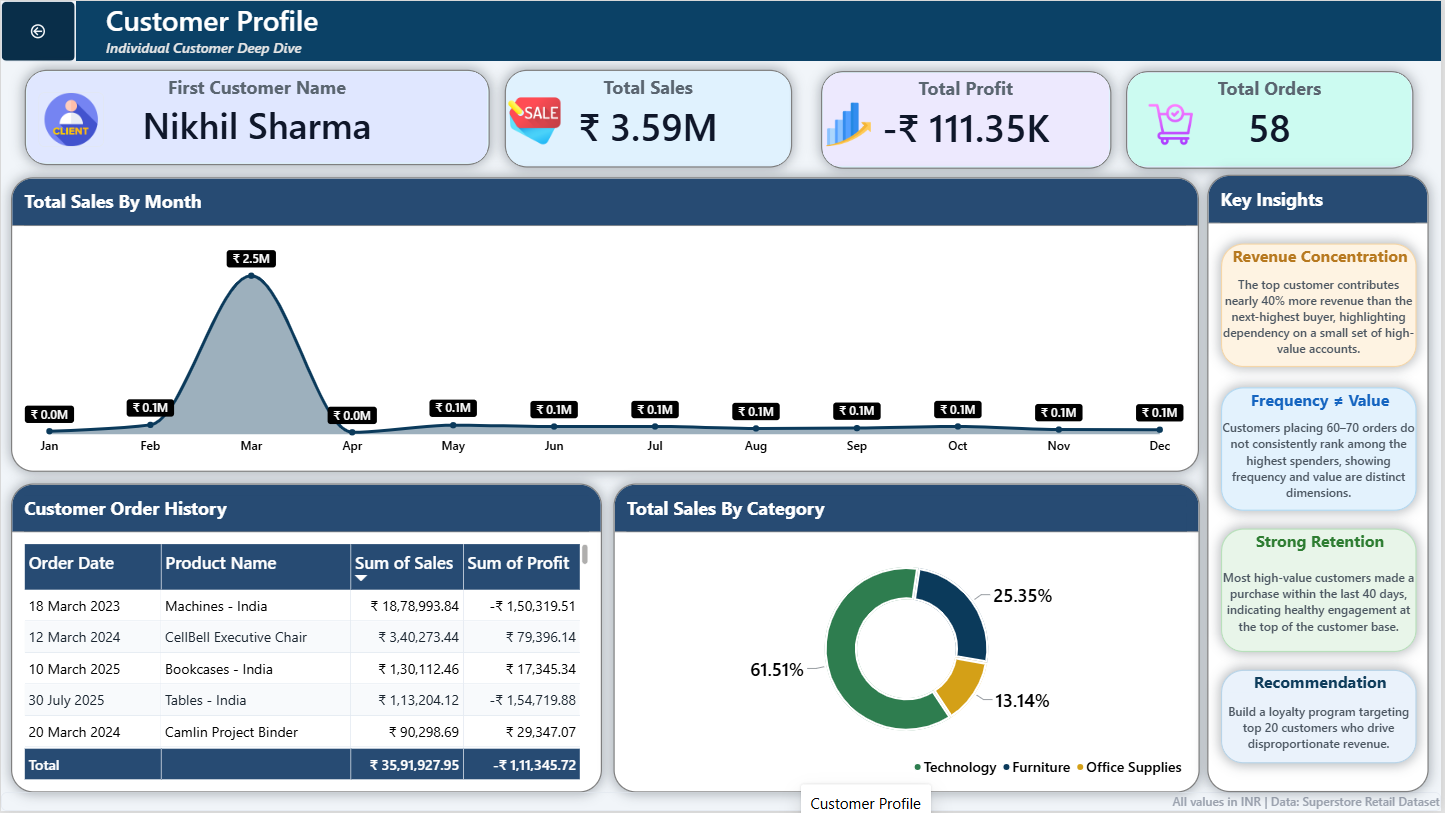

The dashboard page shown, as its layout file describes it:
{"tool":"powerbi","page":{"name":"Customer Profile","canvas":[1920,1080],"ordinal":4},"visuals":[{"type":"actionButton","box":[0,0,99.5,80.8],"z":0},{"type":"cardVisual","fields":{"Data":["Min(Orders.Customer Name)"]},"box":[31.1,91.7,620,127.5],"z":1000},{"type":"cardVisual","fields":{"Data":["Orders.Total Orders"]},"box":[1500,93.3,383,130],"z":2000},{"type":"cardVisual","fields":{"Data":["Orders.Total Profit"]},"box":[1092.8,93.3,387,130],"z":3000},{"type":"cardVisual","fields":{"Data":["Orders.Total Sales1"]},"box":[671.5,92.4,383,130],"z":4000},{"type":"tableEx","title":"Customer Order History","fields":{"Values":["Orders.Order Date","Orders.Product Name","Sum(Orders.Sales)","Sum(Orders.Profit)"]},"box":[14,643.5,788.1,411.9],"z":5000},{"type":"lineStackedColumnComboChart","title":"Total Sales By Month","fields":{"Category":["DateTable.Month"],"Y2":["Orders.Total Sales (bn)"]},"box":[14,234.7,1583.7,392.4],"z":6000},{"type":"textbox","box":[99.4,0,1820.9,76],"z":7000},{"type":"image","box":[671.5,124.4,79.3,69.9],"z":8000},{"type":"image","box":[1092.8,135.2,73.1,59.1],"z":9000},{"type":"image","box":[1512.4,135.2,96.4,59.1],"z":10000},{"type":"donutChart","title":"Total Sales By Category","fields":{"Category":["Orders.Category"],"Y":["Orders.Total Sales"]},"box":[816.1,643.5,781.9,411.9],"z":11000},{"type":"textbox","box":[0,1055.4,1919.7,24.9],"z":12000},{"type":"image","box":[49.7,121.2,87,73.1],"z":13000},{"type":"shape","title":"Key Insights ","box":[1608.8,231.6,295,823],"z":14000},{"type":"shape","title":"Revenue Concentration","box":[1625.9,323.3,261,165],"z":15000},{"type":"shape","title":"Frequency ≠ Value","box":[1625.9,514.5,261,165],"z":16000},{"type":"shape","title":"Strong Retention","box":[1625.9,704.1,261.1,165],"z":17000},{"type":"shape","title":"Recommendation","box":[1625.9,892.2,261.1,125],"z":18000}]}

Visuals, with their boxes in screenshot pixels (x1, y1, x2, y2), scaled from the page's 1920x1080 canvas onto the 1445x813 screenshot:
actionButton: {"left": 0, "top": 0, "right": 75, "bottom": 61}
cardVisual - Min(Orders.Customer Name): {"left": 23, "top": 69, "right": 490, "bottom": 165}
cardVisual - Orders.Total Orders: {"left": 1129, "top": 70, "right": 1417, "bottom": 168}
cardVisual - Orders.Total Profit: {"left": 822, "top": 70, "right": 1114, "bottom": 168}
cardVisual - Orders.Total Sales1: {"left": 505, "top": 70, "right": 794, "bottom": 167}
"Customer Order History" tableEx: {"left": 11, "top": 484, "right": 604, "bottom": 794}
"Total Sales By Month" lineStackedColumnComboChart: {"left": 11, "top": 177, "right": 1202, "bottom": 472}
textbox: {"left": 75, "top": 0, "right": 1444, "bottom": 57}
image: {"left": 505, "top": 94, "right": 565, "bottom": 146}
image: {"left": 822, "top": 102, "right": 877, "bottom": 146}
image: {"left": 1138, "top": 102, "right": 1211, "bottom": 146}
"Total Sales By Category" donutChart: {"left": 614, "top": 484, "right": 1203, "bottom": 794}
textbox: {"left": 0, "top": 794, "right": 1444, "bottom": 812}
image: {"left": 37, "top": 91, "right": 103, "bottom": 146}
"Key Insights " shape: {"left": 1211, "top": 174, "right": 1433, "bottom": 794}
"Revenue Concentration" shape: {"left": 1224, "top": 243, "right": 1420, "bottom": 368}
"Frequency ≠ Value" shape: {"left": 1224, "top": 387, "right": 1420, "bottom": 512}
"Strong Retention" shape: {"left": 1224, "top": 530, "right": 1420, "bottom": 654}
"Recommendation" shape: {"left": 1224, "top": 672, "right": 1420, "bottom": 766}
